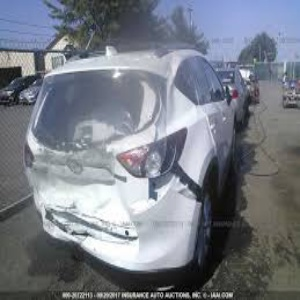bumper: (128, 194, 203, 272)
tail_lights: (111, 136, 178, 177)
